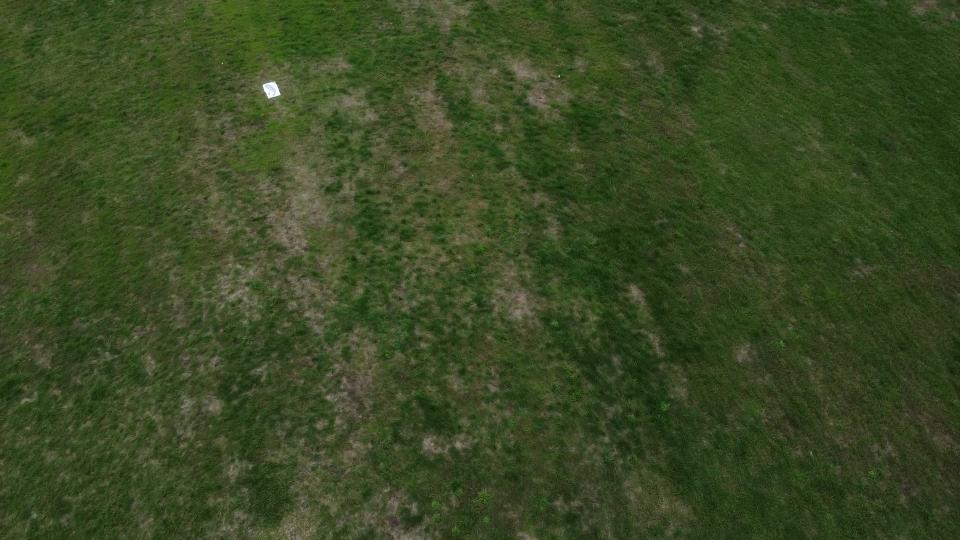zebra_single: (264, 84, 277, 97)
